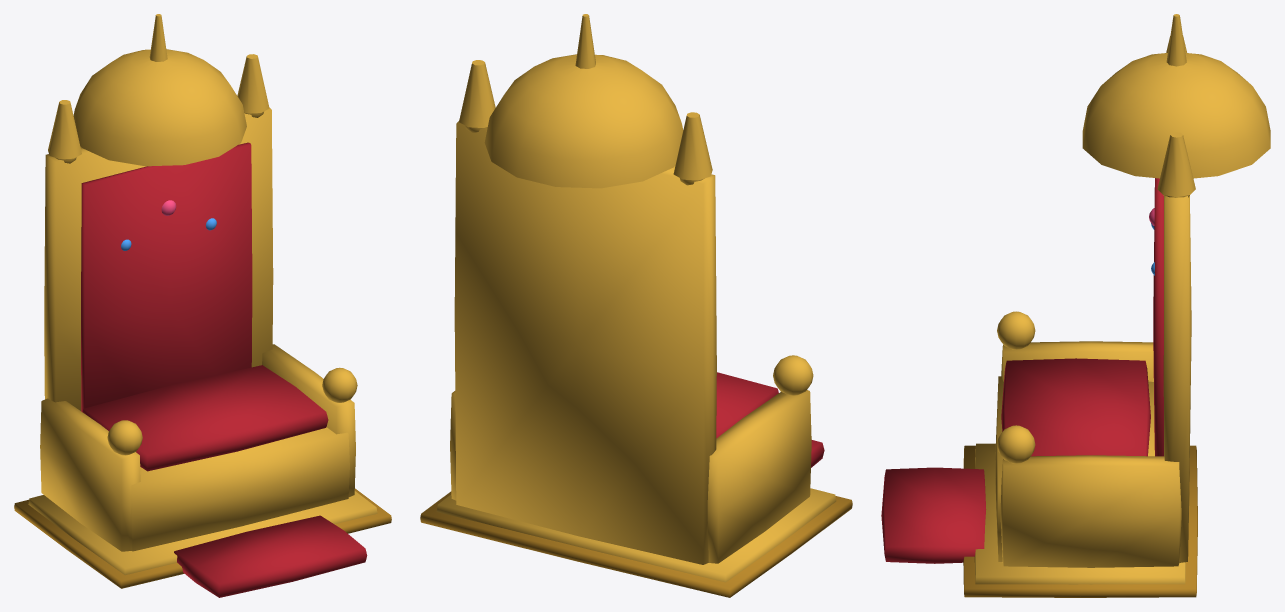
Rendered from throne.glb.
3 views of the same model, side by side, from view 1: azimuth 30°, elevation 25°; view 2: azimuth 150°, elevation 25°; view 3: azimuth 270°, elevation 25° (orthographic). The views are drawn at different scales.
Parts seen in each view (by area): view 1: root; view 2: root; view 3: root.
Boxes of the visible parts, x1,y1,x2,y2 form: root: [14, 14, 391, 597]; root: [420, 14, 852, 597]; root: [881, 14, 1270, 597].
Bounding box in the file's own units: 1.59 × 2.62 × 1.8.
